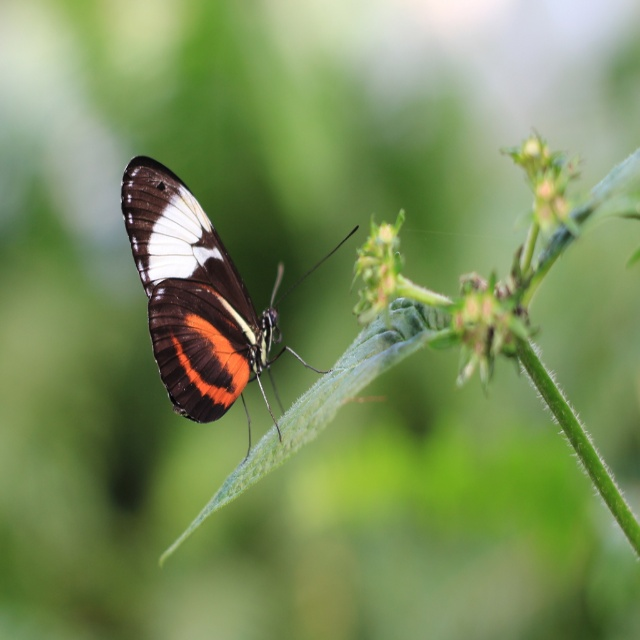Butterfly: (121, 155, 360, 465)
